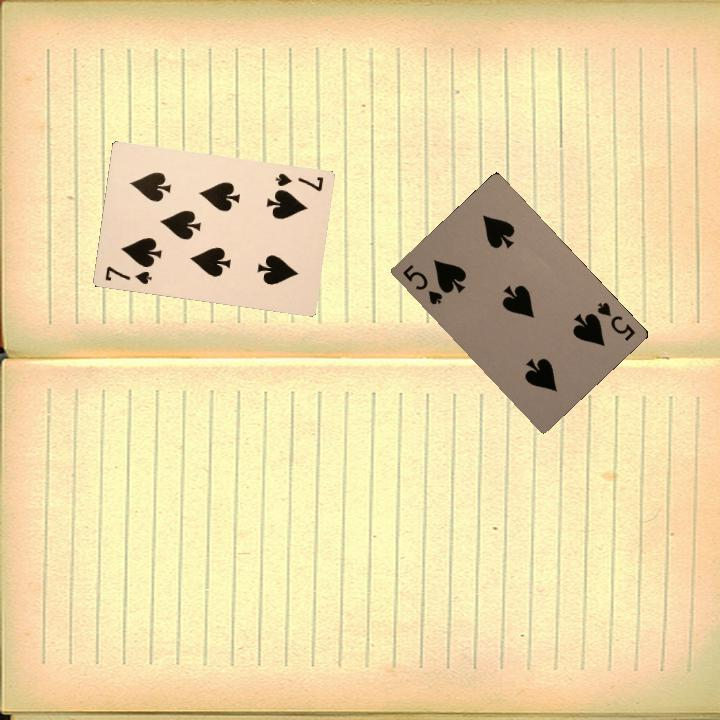5s: (398, 260, 445, 307), (593, 298, 638, 343)
7s: (272, 169, 326, 194), (101, 262, 154, 287)
